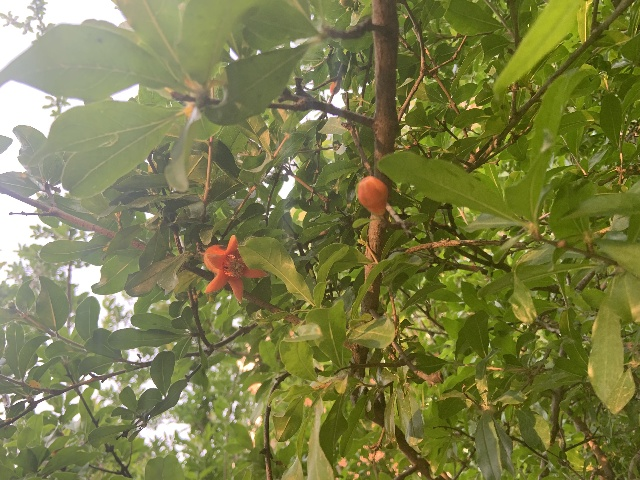bud: (357, 175, 388, 215)
flower: (202, 234, 268, 304)
